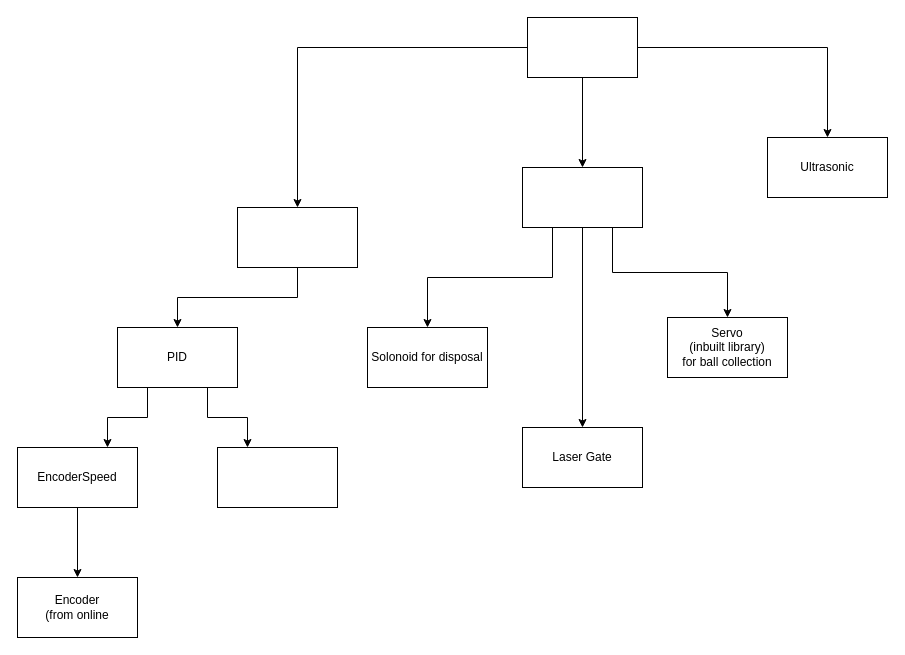
This 905x655 diagram has some shape labels left out. The box of each missing label's shape, as (x1, y1, x2, y2) in pixels:
Ball Collection: (522, 166, 642, 228)
Drive System: (236, 206, 358, 268)
Sensors and Movement: (526, 16, 638, 78)
Servo (inbuilt library): (216, 446, 338, 508)
